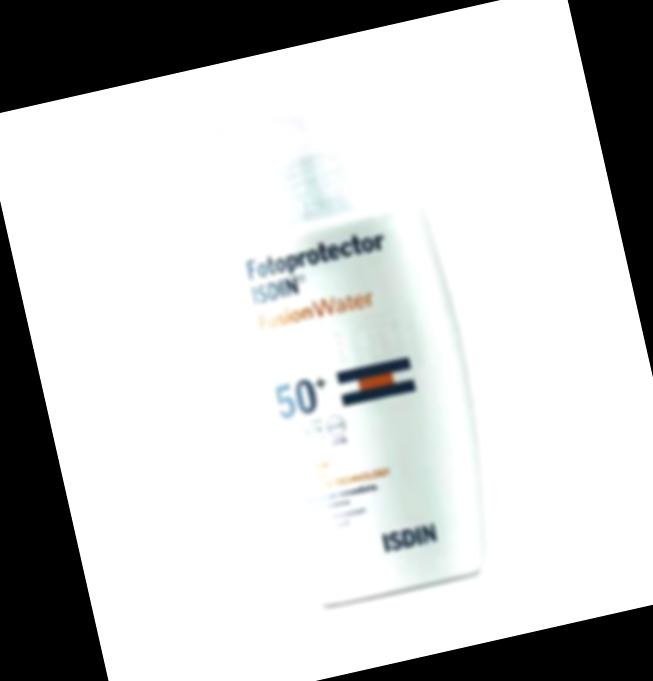cosmetic: (195, 85, 502, 616)
